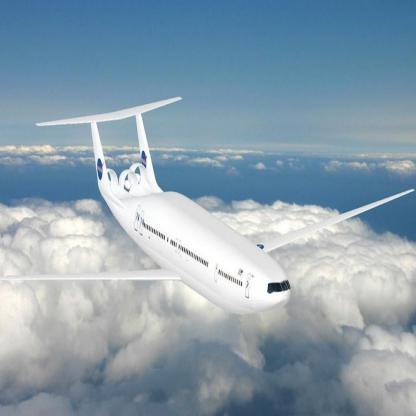CIV_Plane: (2, 92, 414, 335)
